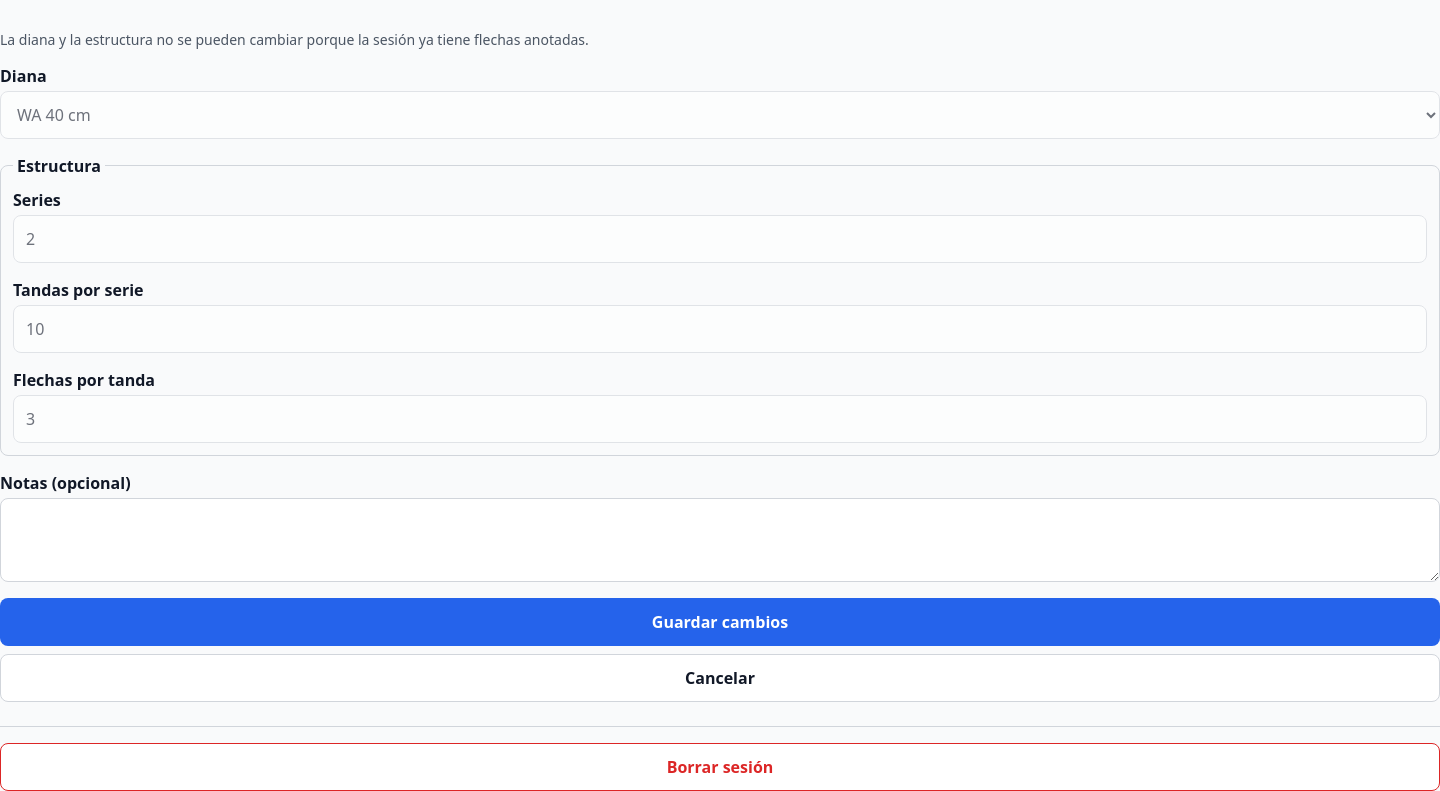
Test: EditSessionView delete (CU-12) › opens the app dialog with the exact danger texts, never window.confirm
(page scrolled)
Click the button with test id "delete-session": x=720, y=767 [0,743,1439,790]
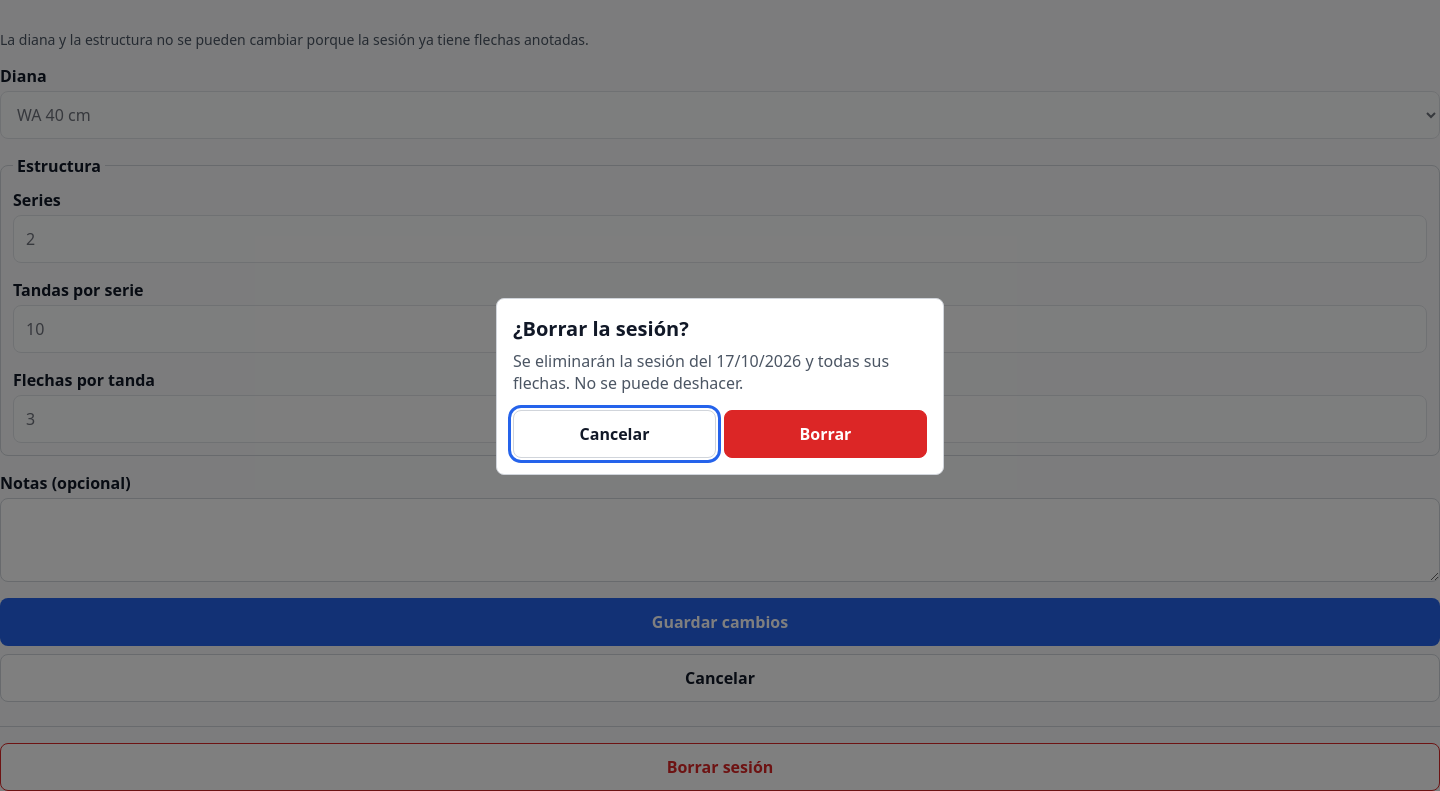
expect the dialog is shown: met, box [496,298,944,474]
expect the heading with id "confirm-dialog-title" reads "¿Borrar la sesión?": met, box [513,314,689,342]
expect the text with id "confirm-dialog-message" shows "Se eliminarán la sesión del 17/10/2026 y todas sus flechas. No se puede deshacer.": met, box [513,350,889,394]
